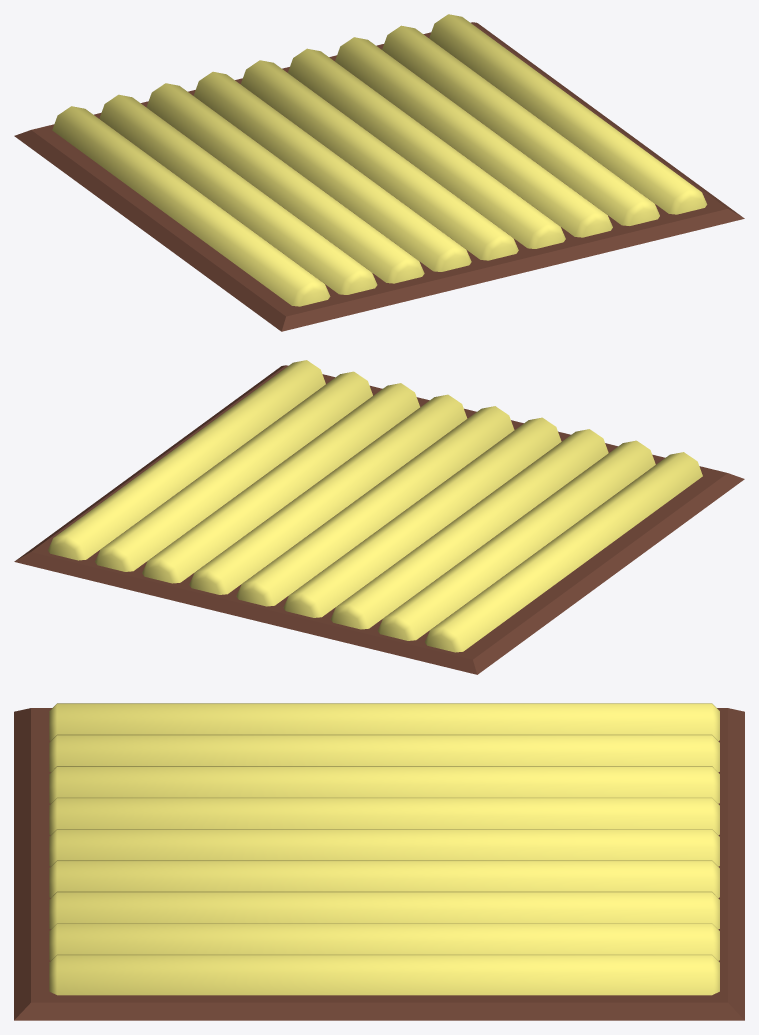
File: Farm.fbx
The picture shows the model from 3 angles, top to bottom: view 1: azimuth 30°, elevation 25°; view 2: azimuth 150°, elevation 25°; view 3: azimuth 270°, elevation 25°; orthographic projection. The views are drawn at different scales.
Parts seen in each view (by area): view 1: Farm; view 2: Farm; view 3: Farm.
Part boxes in pixels (x1,y1,x2,y2): Farm: [14, 14, 744, 331]; Farm: [14, 360, 744, 674]; Farm: [14, 703, 744, 1020].
Bounding box in the file's own units: 844 × 47.97 × 844.
